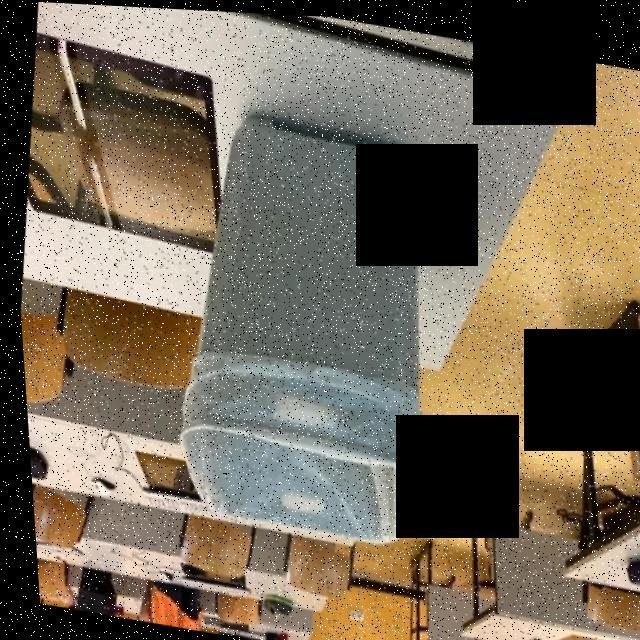bin: (123, 74, 489, 610)
